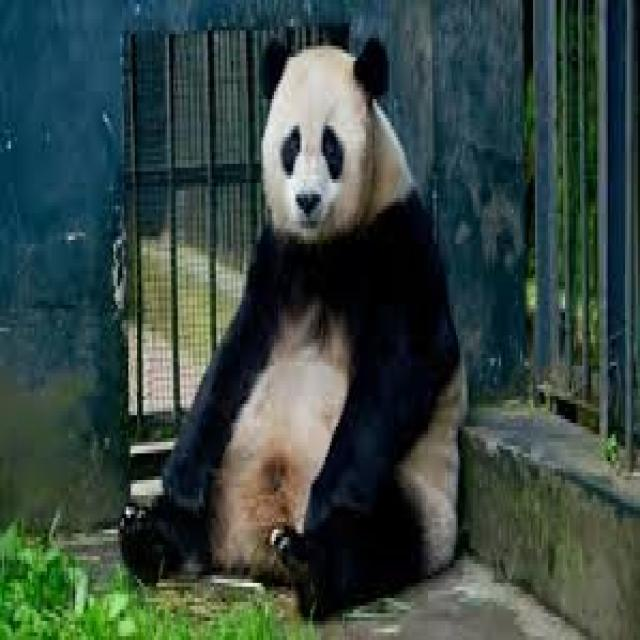Panda: (124, 33, 468, 608)
